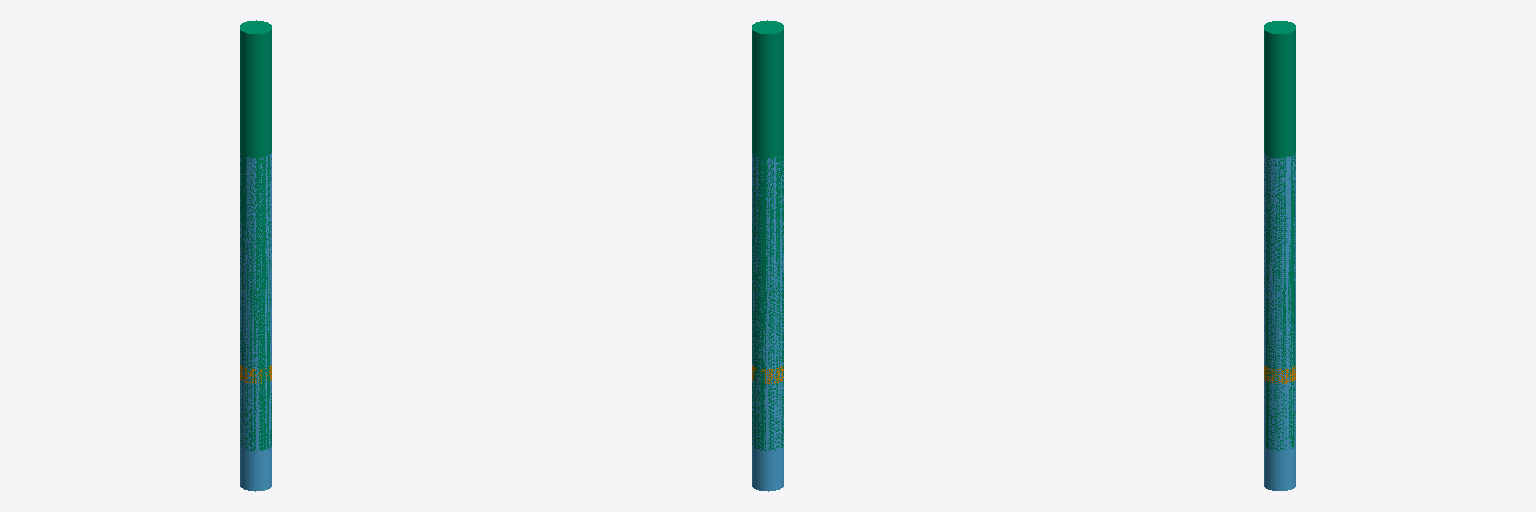
The robot description file, URDF, robot "arm_3dof":
<?xml version="1.0"?>
<robot name="arm_3dof">
  <!-- Base Link -->
  <link name="base_link">
    <visual>
      <geometry><cylinder length="0.05" radius="0.05"/></geometry>
    </visual>
  </link>

  <!-- Link 1 -->
  <link name="link1">
    <visual>
      <origin xyz="0 0 0.15" rpy="0 0 0"/>
      <geometry><cylinder length="1.12" radius="0.05"/></geometry>
    </visual>
  </link>

  <!-- Joint 1: Base to Link1 (rotate around Z) -->
  <joint name="joint1" type="revolute">
    <parent link="base_link"/>
    <child link="link1"/>
    <origin xyz="0 0 0.025" rpy="0 0 0"/>
    <axis xyz="0 0 1"/>
    <limit lower="-3.14" upper="3.14" effort="10" velocity="1"/>
  </joint>

  <!-- Link 2 -->
  <link name="link2">
    <visual>
      <origin xyz="0 0 0.125" rpy="0 0 0"/>
      <geometry><cylinder length="1.4" radius="0.05"/></geometry>
    </visual>
  </link>

  <!-- Joint 2: Link1 to Link2 (rotate around Y - shoulder) -->
  <joint name="joint2" type="revolute">
    <parent link="link1"/>
    <child link="link2"/>
    <origin xyz="0 0 0.3" rpy="0 0 0"/>
    <axis xyz="1 0 0"/>
    <limit lower="-1.57" upper="1.57" effort="10" velocity="1"/>
  </joint>

  <!-- Link 3 (End Effector) -->
  <link name="link3">
    <visual>
      <origin xyz="0 0 0.1" rpy="0 0 0"/>
      <geometry><cylinder length="0.6" radius="0.015"/></geometry>
    </visual>
  </link>

  <!-- Joint 3: Link2 to Link3 (rotate around Y - elbow) -->
  <joint name="joint3" type="revolute">
    <parent link="link2"/>
    <child link="link3"/>
    <origin xyz="0 0 0.25" rpy="0 0 0"/>
    <axis xyz="0 1 0"/>
    <limit lower="-2.0" upper="2.0" effort="10" velocity="1"/>
  </joint>

  <!-- End Effector Frame -->
  <link name="end_effector"/>
  <joint name="ee_joint" type="fixed">
    <parent link="link3"/>
    <child link="end_effector"/>
    <origin xyz="0 0 0.2" rpy="0 0 0"/>
  </joint>
</robot>

--- Facts derived from the render (not from the file) ---
Views: 3 orthographic renders of the robot side by side, from view 1: azimuth 30°, elevation 25°; view 2: azimuth 150°, elevation 25°; view 3: azimuth 270°, elevation 25°.
Model arm_3dof with 5 links and 4 joints (3 revolute, 1 fixed), rooted at base_link, posed every joint at zero.
Links seen in each view (by area): view 1: link2, link1; view 2: link2, link1; view 3: link2, link1.
Boxes of the visible links, x1=… form: link2: x1=240, y1=20, x2=271, y2=450; link1: x1=240, y1=153, x2=271, y2=491; link2: x1=752, y1=20, x2=783, y2=450; link1: x1=752, y1=154, x2=783, y2=491; link2: x1=1264, y1=21, x2=1295, y2=450; link1: x1=1264, y1=153, x2=1295, y2=490.
Size in the robot's own frame: 0.1 by 0.1 by 1.53 metres.
Geometry: primitives only (box / cylinder / sphere), no mesh files.
